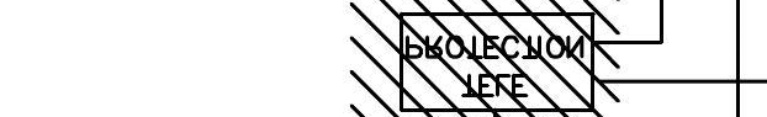tele_protection: (396, 8, 597, 115)
